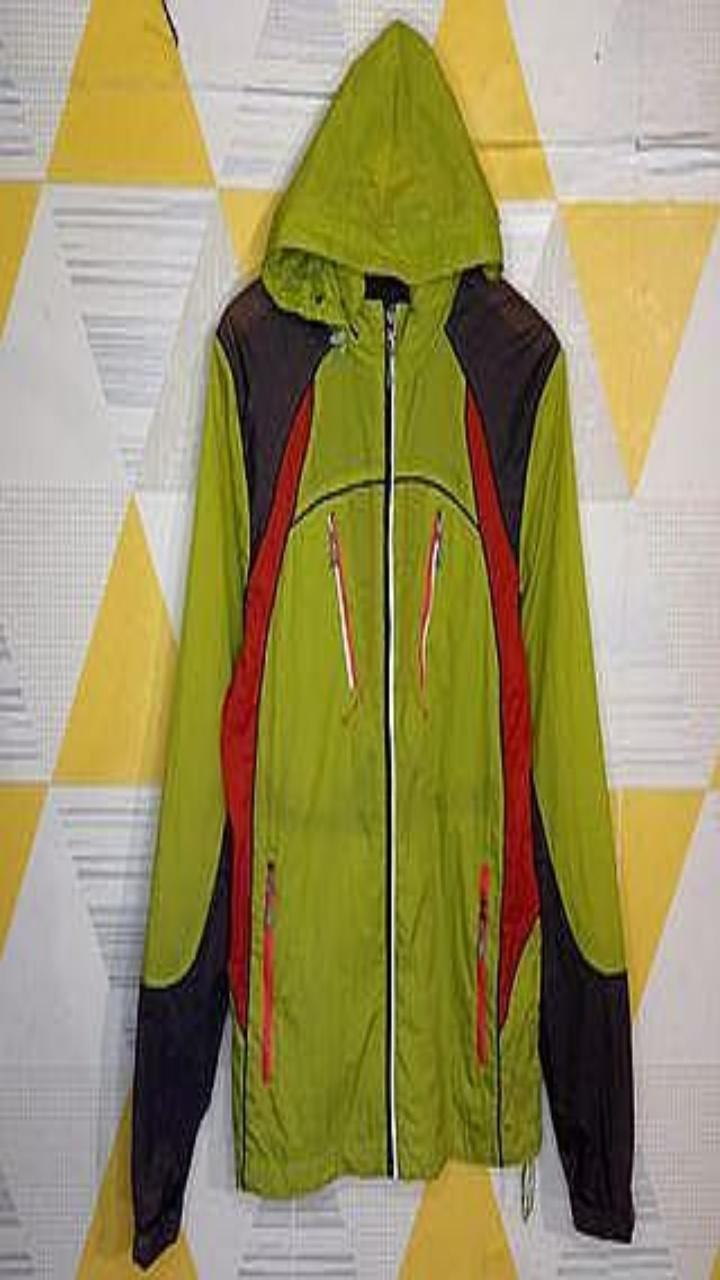Sports_Jacket: (131, 19, 633, 1266)
